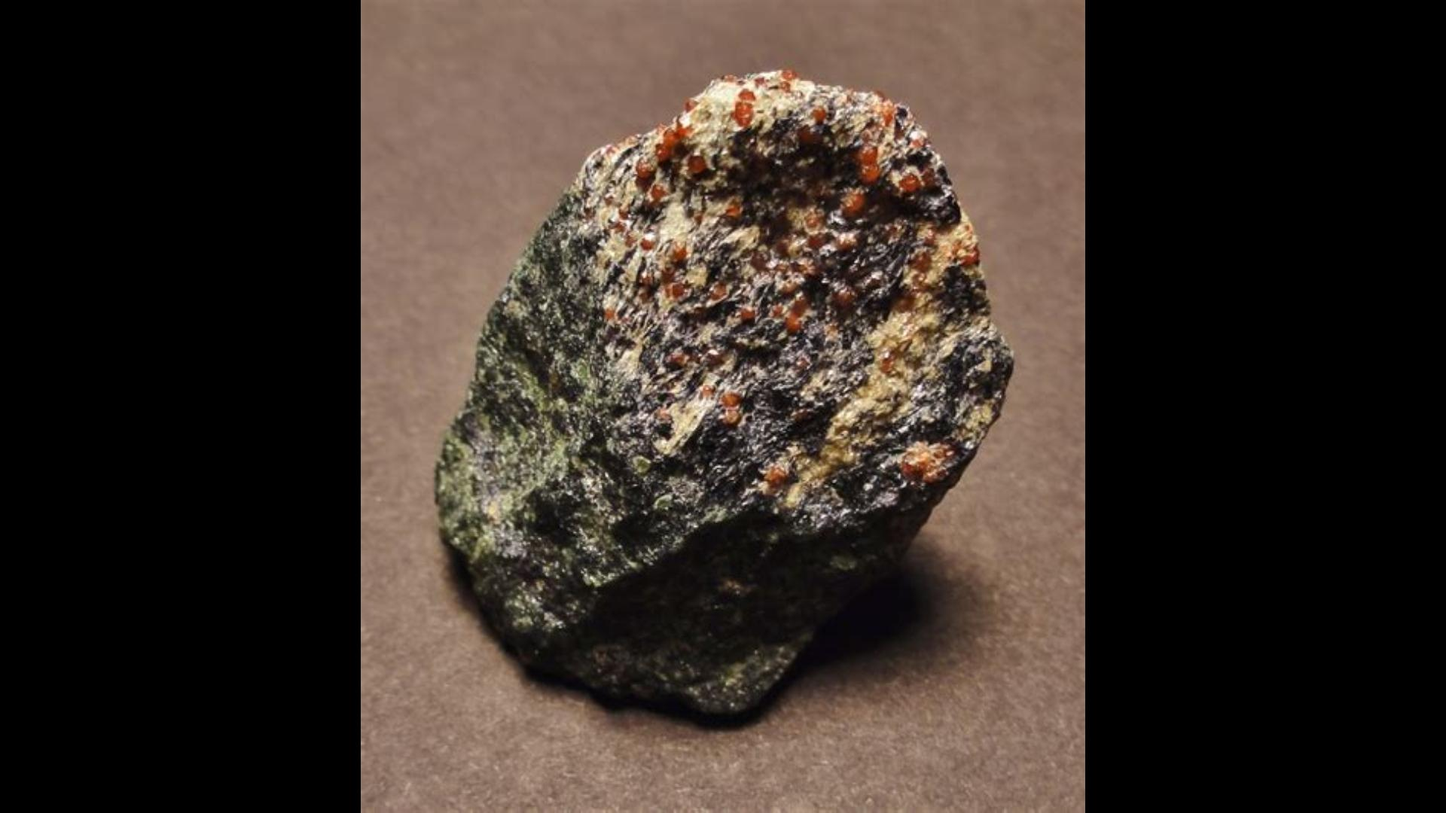rock: (437, 81, 1011, 709)
